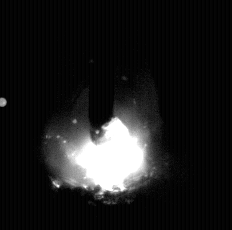arame: (90, 0, 116, 144)
poca: (44, 0, 163, 230)
